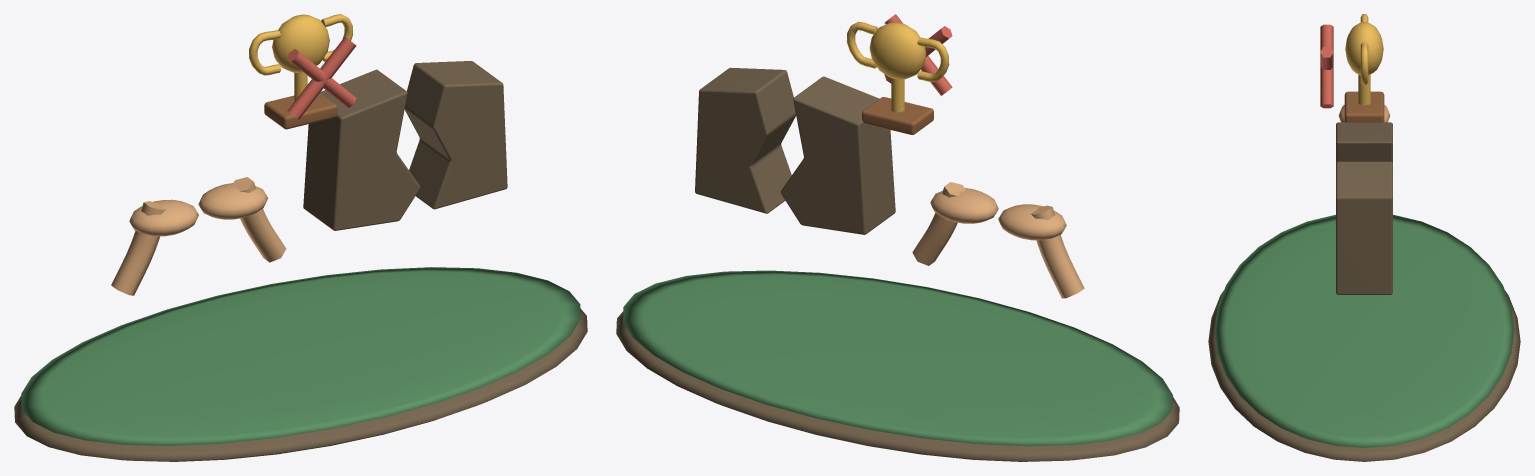
File: complete-second-lost-failed.glb
3 renders of one model, left to right at view 1: azimuth 30°, elevation 25°; view 2: azimuth 150°, elevation 25°; view 3: azimuth 270°, elevation 25°, orthographic. The views are drawn at different scales.
Parts seen in each view (by area): view 1: complete-second-lost-failed_surface_01, complete-second-lost-failed_surface_00, complete-second-lost-failed_surface_02, complete-second-lost-failed_surface_04, complete-second-lost-failed_surface_05, complete-second-lost-failed_surface_03; view 2: complete-second-lost-failed_surface_01, complete-second-lost-failed_surface_00, complete-second-lost-failed_surface_02, complete-second-lost-failed_surface_04, complete-second-lost-failed_surface_03, complete-second-lost-failed_surface_05; view 3: complete-second-lost-failed_surface_01, complete-second-lost-failed_surface_00, complete-second-lost-failed_surface_04, complete-second-lost-failed_surface_05, complete-second-lost-failed_surface_03.
Part boxes in pixels (x1,y1,x2,y2): complete-second-lost-failed_surface_01: (21, 267, 580, 445); complete-second-lost-failed_surface_00: (14, 61, 587, 461); complete-second-lost-failed_surface_02: (111, 177, 286, 295); complete-second-lost-failed_surface_04: (249, 14, 352, 101); complete-second-lost-failed_surface_05: (287, 37, 356, 119); complete-second-lost-failed_surface_03: (264, 93, 337, 129); complete-second-lost-failed_surface_01: (623, 270, 1172, 446); complete-second-lost-failed_surface_00: (616, 68, 1179, 461); complete-second-lost-failed_surface_02: (912, 182, 1084, 298); complete-second-lost-failed_surface_04: (846, 21, 949, 112); complete-second-lost-failed_surface_03: (862, 97, 933, 134); complete-second-lost-failed_surface_05: (884, 14, 952, 95); complete-second-lost-failed_surface_01: (1214, 215, 1514, 447); complete-second-lost-failed_surface_00: (1208, 122, 1520, 461); complete-second-lost-failed_surface_04: (1345, 14, 1383, 105); complete-second-lost-failed_surface_05: (1320, 24, 1333, 108); complete-second-lost-failed_surface_03: (1344, 91, 1384, 122).
Size of the model in its own units: 4.56 by 2.93 by 2.5.
